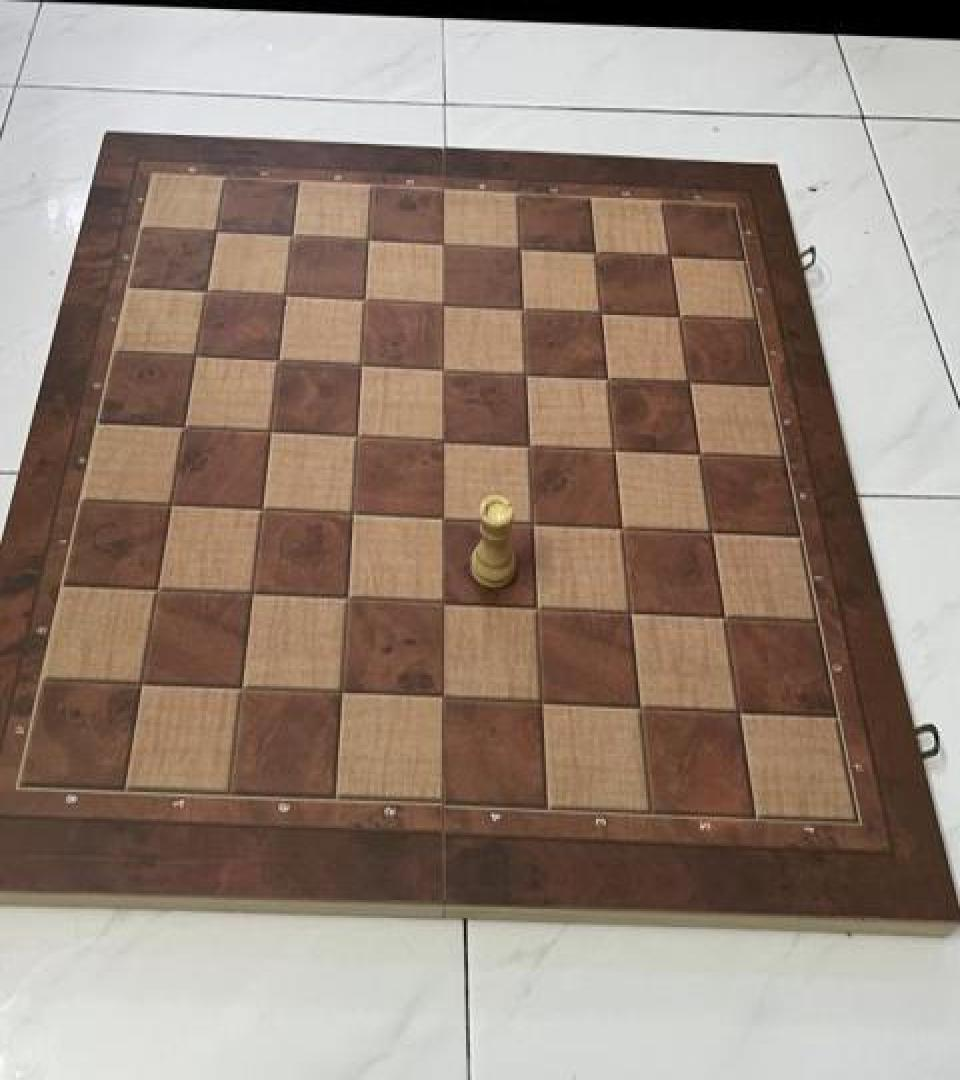xcorner: (506, 290, 540, 329), (181, 335, 215, 374), (229, 669, 263, 708), (624, 686, 658, 725), (201, 212, 235, 250), (277, 216, 311, 254), (353, 220, 387, 258), (428, 225, 462, 263), (503, 230, 537, 268), (578, 235, 612, 273), (652, 240, 686, 278), (191, 271, 225, 309), (271, 276, 305, 314), (350, 280, 384, 318), (428, 285, 462, 323), (584, 295, 618, 333), (661, 300, 695, 338), (264, 341, 298, 379), (346, 346, 380, 384), (428, 350, 462, 388), (510, 354, 544, 392), (590, 359, 624, 397), (671, 364, 705, 402), (169, 408, 203, 446), (256, 412, 290, 450), (343, 416, 377, 454), (428, 421, 462, 459), (513, 426, 547, 464), (598, 430, 632, 468), (682, 434, 716, 472), (157, 485, 191, 523), (248, 490, 282, 528), (338, 494, 372, 532), (428, 498, 462, 536), (517, 503, 551, 541), (693, 512, 727, 550), (143, 570, 177, 608), (239, 575, 273, 613), (334, 580, 368, 618), (428, 584, 462, 622), (521, 588, 555, 626), (614, 593, 648, 631), (706, 598, 740, 636), (128, 665, 162, 703), (329, 674, 363, 712), (428, 678, 462, 716), (526, 683, 560, 721), (721, 691, 755, 729), (606, 508, 640, 545)
